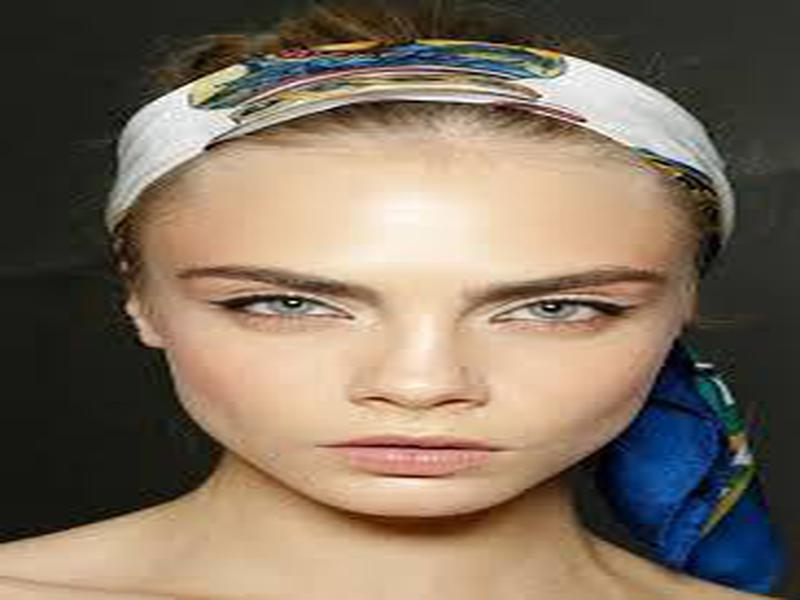without_mask: (134, 129, 672, 525)
